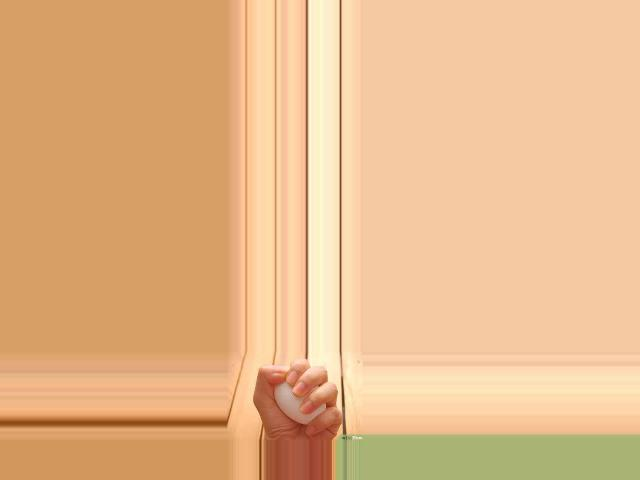egg: (274, 382, 327, 425)
